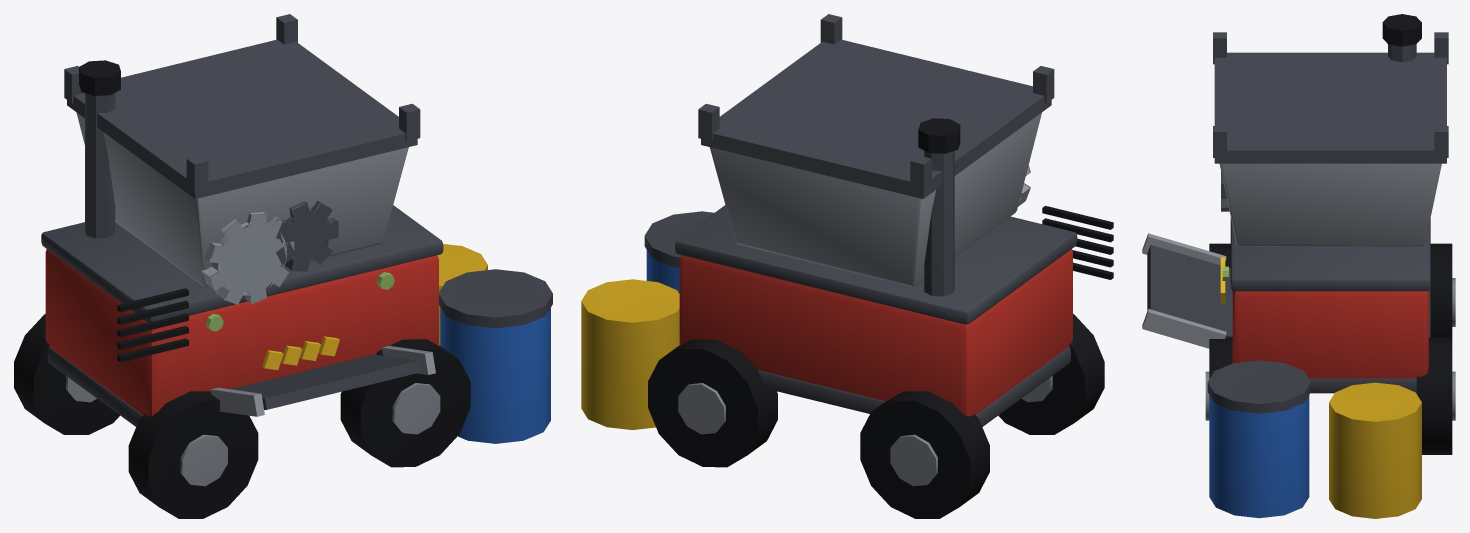
File: scrapper.glb
3 views of the same model, side by side, from view 1: azimuth 30°, elevation 25°; view 2: azimuth 150°, elevation 25°; view 3: azimuth 270°, elevation 25° (orthographic). The views are drawn at different scales.
Visible parts, largest first — view 1: scrapper, gear1, scrapper_craft, gear2; view 2: scrapper; view 3: scrapper, scrapper_craft.
Part boxes in pixels (bbox=[...]): scrapper: bbox=[14, 14, 552, 518]; gear1: bbox=[201, 212, 294, 304]; scrapper_craft: bbox=[205, 272, 435, 416]; gear2: bbox=[276, 201, 338, 271]; scrapper: bbox=[581, 14, 1113, 518]; scrapper: bbox=[1147, 14, 1455, 518]; scrapper_craft: bbox=[1142, 233, 1228, 348].
Size of the model in its own units: 2.59 by 2.07 by 1.76.
